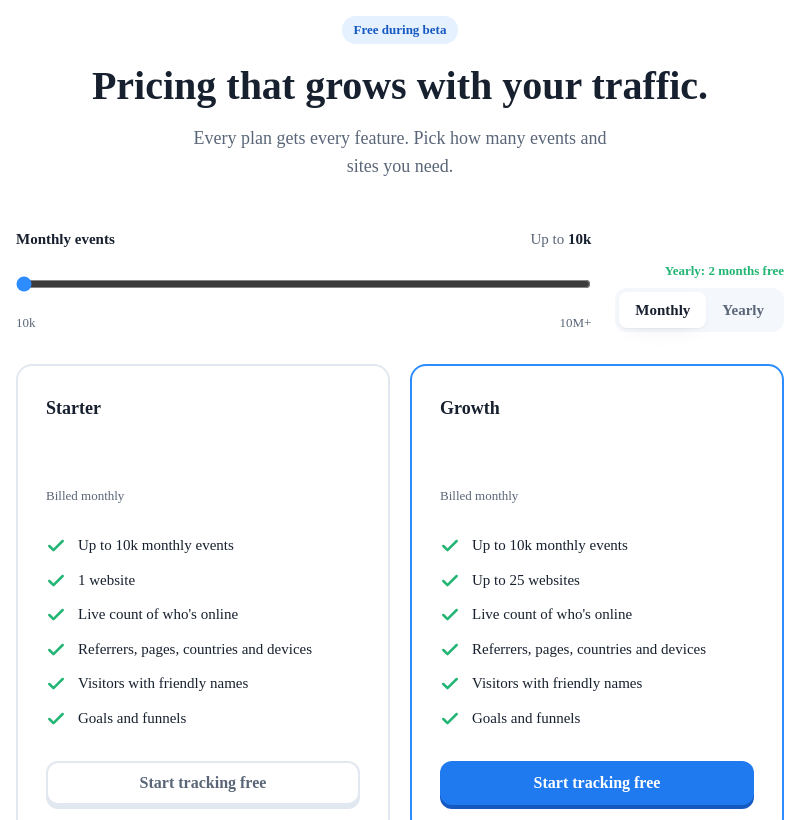
Test: Pricing › shows the yearly price per month and per year
Click the button "Yearly": {"x": 743, "y": 310} [706,292,780,328]
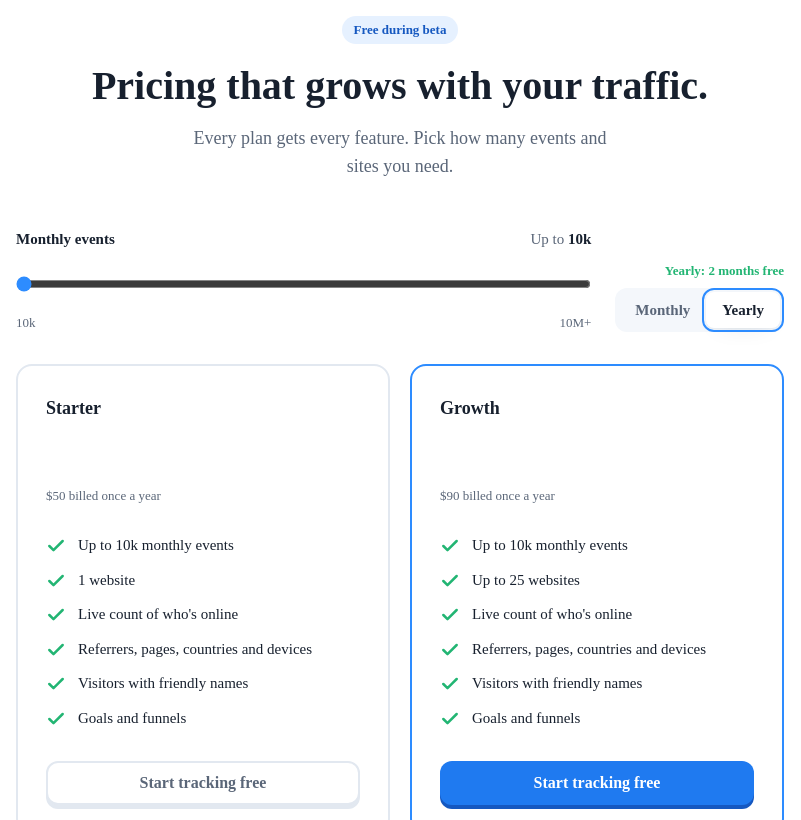
Result: the text "$50 billed once a year" is shown at [46,488,161,503]
